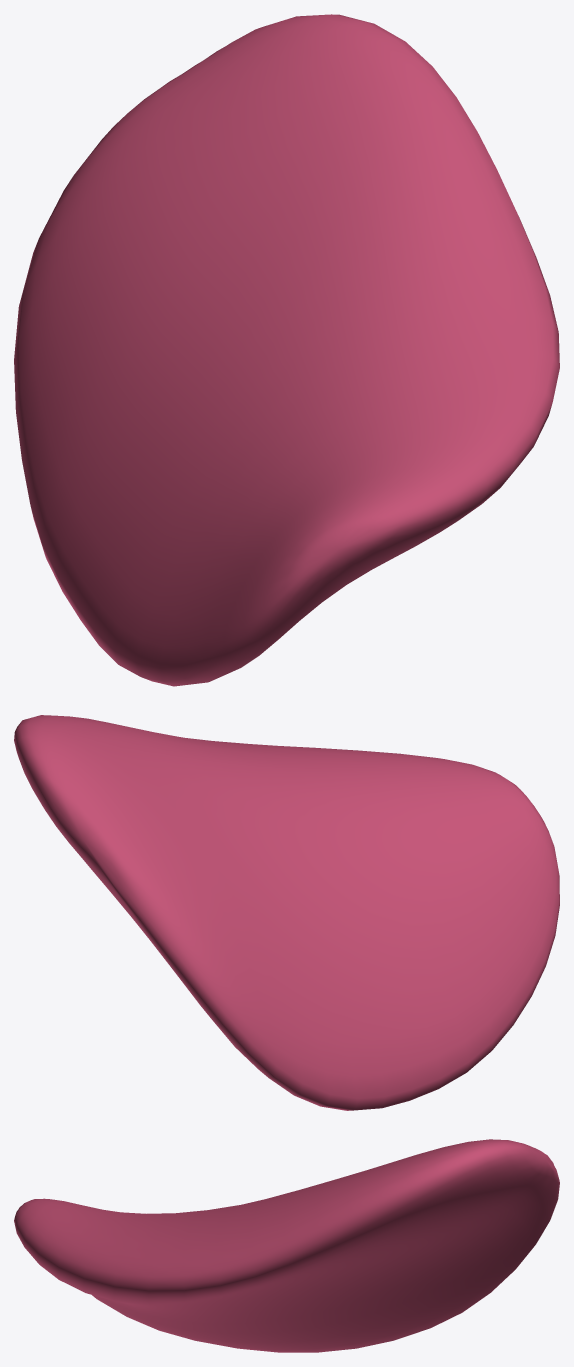
3 views of the same model, one above another, from view 1: azimuth 30°, elevation 25°; view 2: azimuth 150°, elevation 25°; view 3: azimuth 270°, elevation 25° (orthographic). The views are drawn at different scales.
Parts seen in each view (by area): view 1: 左侧闭孔内肌坐骨囊; view 2: 左侧闭孔内肌坐骨囊; view 3: 左侧闭孔内肌坐骨囊.
Boxes of the visible parts, x1,y1,x2,y2 form: 左侧闭孔内肌坐骨囊: (14,14,559,686); 左侧闭孔内肌坐骨囊: (14,715,559,1110); 左侧闭孔内肌坐骨囊: (14,1139,559,1352).
Bounding box in the file's own units: 0.0201 × 0.0194 × 0.029.
